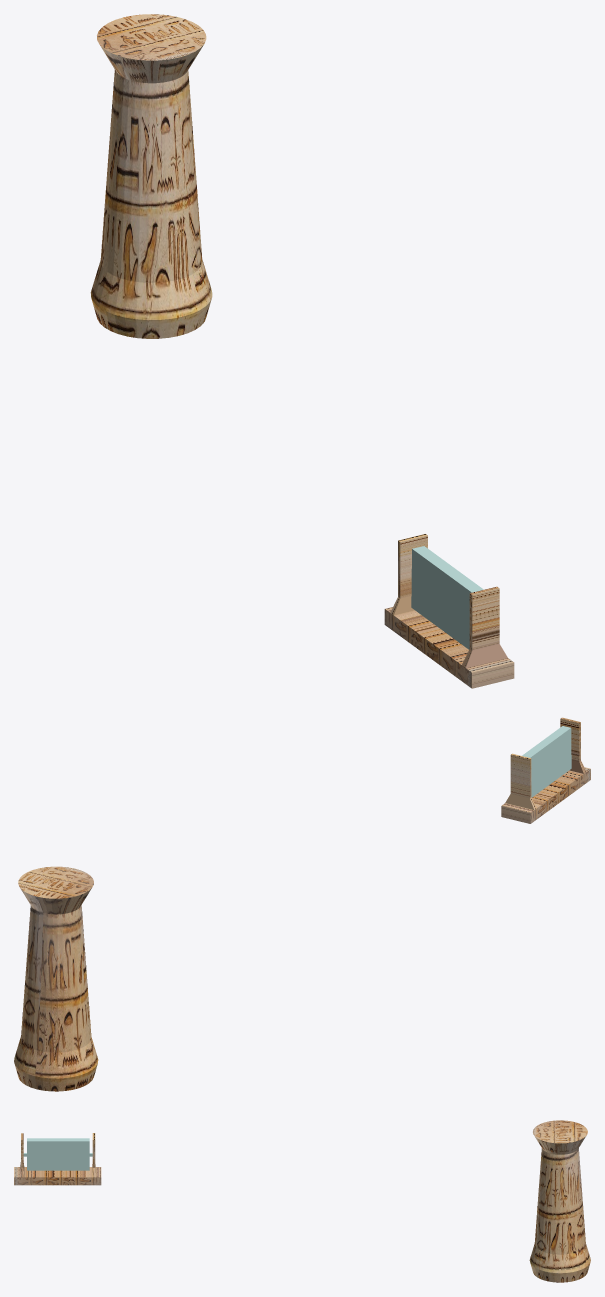
The model's file is ra bazzul.fbx.
3 views of the same model, one above another, from view 1: azimuth 30°, elevation 25°; view 2: azimuth 150°, elevation 25°; view 3: azimuth 270°, elevation 25° (orthographic). The views are drawn at different scales.
Parts seen in each view (by area): view 1: Cylinder, Plane.001, Plane; view 2: Cylinder, Plane.001, Plane; view 3: Cylinder, Plane, Plane.001.
Boxes of the visible parts, x1,y1,x2,y2 form: Cylinder: (90, 14, 212, 338); Plane.001: (384, 534, 514, 688); Plane: (411, 546, 483, 649); Cylinder: (14, 866, 98, 1091); Plane.001: (501, 717, 590, 823); Plane: (522, 726, 571, 797); Cylinder: (529, 1120, 590, 1282); Plane: (23, 1138, 92, 1170); Plane.001: (14, 1133, 101, 1185).
Size of the model in its own units: 369 by 352 by 1322.
